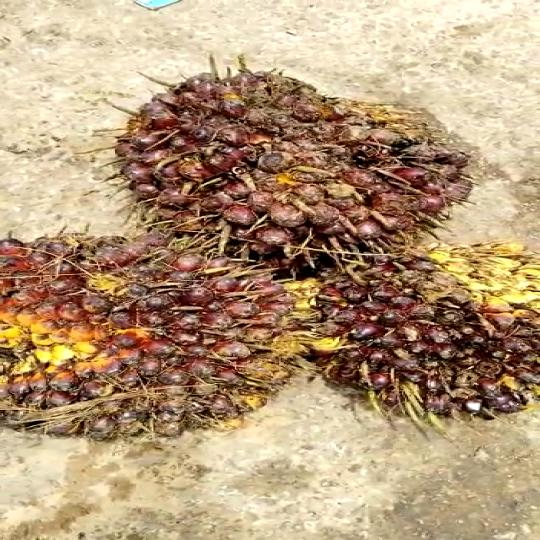kurang masak: (93, 59, 502, 254), (0, 239, 332, 440), (291, 241, 540, 424)
